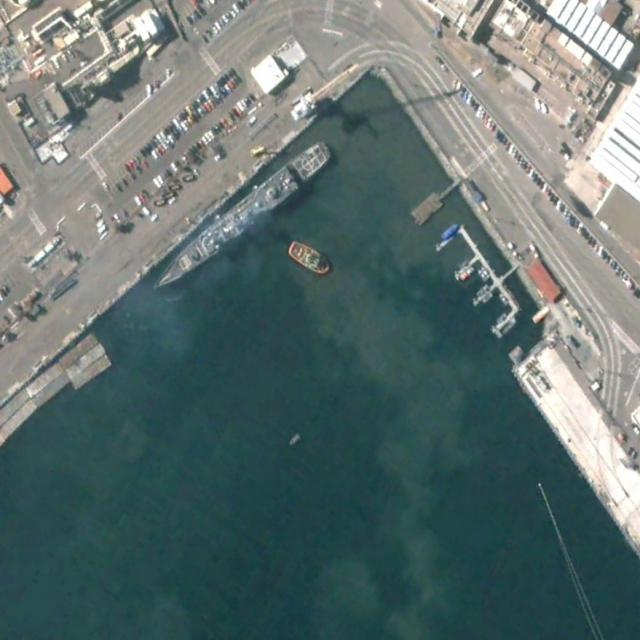Frigate: (144, 134, 338, 302)
Hovercraft: (285, 236, 333, 278)
